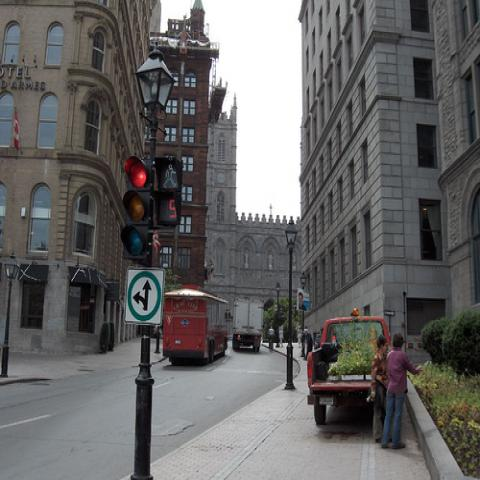bus: (163, 287, 229, 365)
car: (228, 335, 233, 340)
truck: (306, 317, 388, 427), (232, 295, 264, 353)
